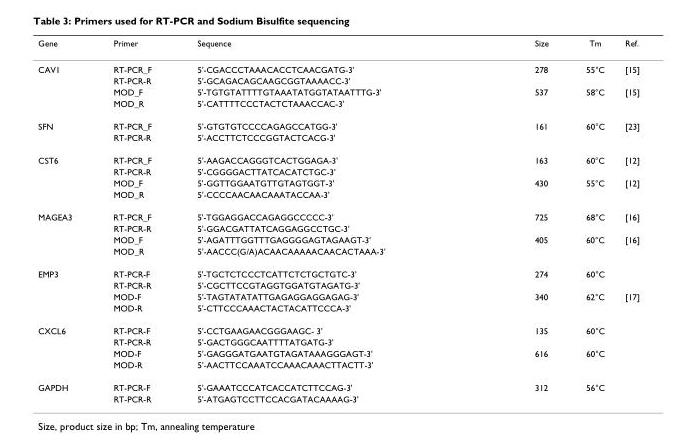table: (37, 37, 638, 403)
table column: (173, 37, 459, 403), (459, 37, 566, 403), (91, 37, 173, 403), (37, 37, 91, 403), (566, 37, 614, 403), (614, 37, 638, 403)
table column header: (37, 37, 638, 55)
table row: (37, 55, 638, 74), (37, 37, 638, 55), (37, 97, 638, 114), (37, 114, 638, 131), (37, 131, 638, 148), (37, 148, 638, 165), (37, 188, 638, 205), (37, 205, 638, 222), (37, 245, 638, 262), (37, 262, 638, 279), (37, 301, 638, 318), (37, 318, 638, 335), (37, 358, 638, 375), (37, 375, 638, 392), (37, 85, 638, 97), (37, 176, 638, 188), (37, 233, 638, 245), (37, 335, 638, 347), (37, 74, 638, 85), (37, 165, 638, 176), (37, 222, 638, 233), (37, 279, 638, 290), (37, 290, 638, 301), (37, 347, 638, 358), (37, 392, 638, 403)
table spanning cell: (37, 55, 91, 114), (37, 148, 91, 205), (37, 205, 91, 262), (37, 318, 91, 375), (37, 262, 91, 318), (37, 114, 91, 148), (37, 375, 91, 403)
